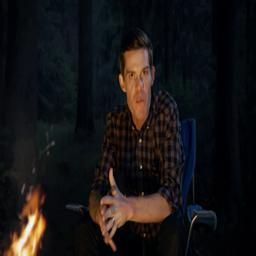fire: (7, 192, 48, 256)
